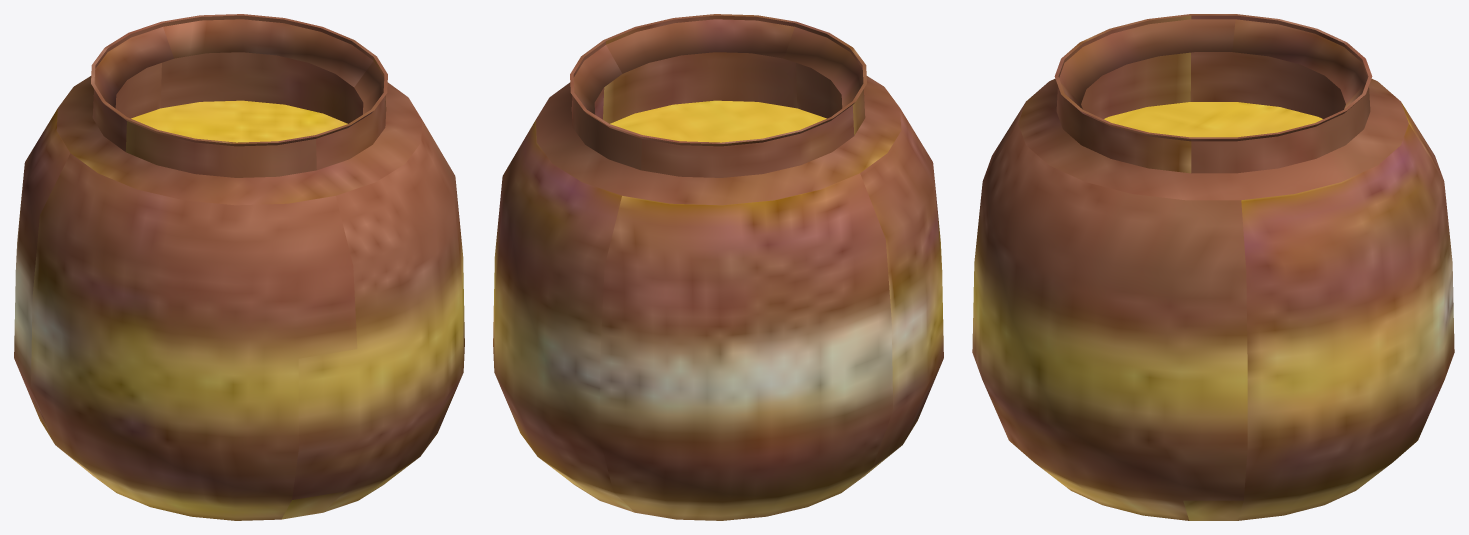
File: honey bottle.fbx
The picture shows the model from 3 angles, left to right: view 1: azimuth 30°, elevation 25°; view 2: azimuth 150°, elevation 25°; view 3: azimuth 270°, elevation 25°; orthographic projection.
Parts seen in each view (by area): view 1: honey bottle; view 2: honey bottle; view 3: honey bottle.
Boxes of the visible parts, bbox=[...] form: honey bottle: bbox=[14, 14, 464, 520]; honey bottle: bbox=[493, 14, 943, 520]; honey bottle: bbox=[972, 14, 1454, 520].
Bounding box in the file's own units: 26.18 × 24.31 × 28.12.
